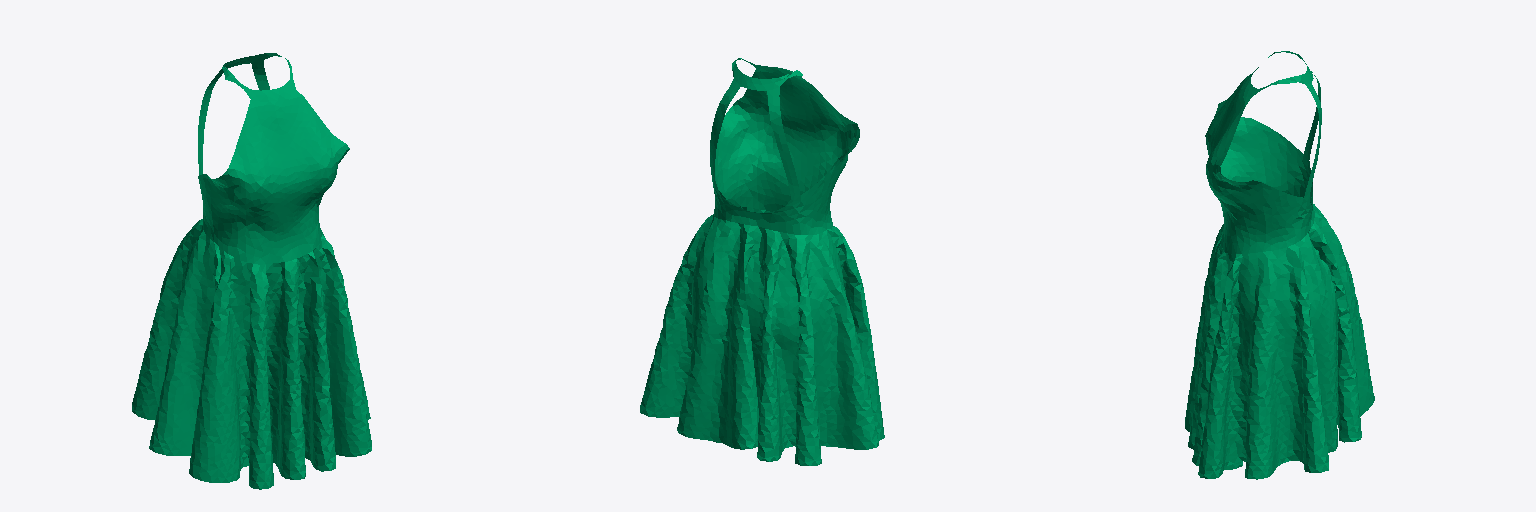
3 renders of one model, left to right at view 1: azimuth 30°, elevation 25°; view 2: azimuth 150°, elevation 25°; view 3: azimuth 270°, elevation 25°, orthographic.
Visible parts, largest first — view 1: large_greenDress:polySurface1; view 2: large_greenDress:polySurface1; view 3: large_greenDress:polySurface1.
Part boxes in pixels (bbox=[...]): large_greenDress:polySurface1: bbox=[132, 53, 371, 489]; large_greenDress:polySurface1: bbox=[640, 58, 884, 465]; large_greenDress:polySurface1: bbox=[1185, 51, 1374, 479].
Size of the model in its own units: 5.1 by 8.68 by 3.9.
Materials: 9 (1 with a texture image).